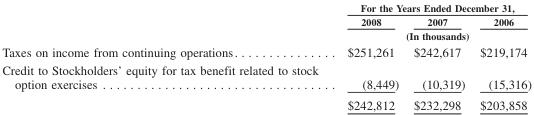table: (1, 1, 530, 112)
table column: (1, 1, 332, 112), (332, 1, 405, 112), (405, 1, 471, 112), (471, 1, 530, 112)
table column header: (1, 1, 530, 42)
table row: (1, 60, 530, 94), (1, 42, 530, 60), (1, 94, 530, 112), (1, 14, 530, 28), (1, 28, 530, 42), (1, 1, 530, 14)
table spanning cell: (332, 28, 530, 42), (332, 1, 530, 14)
